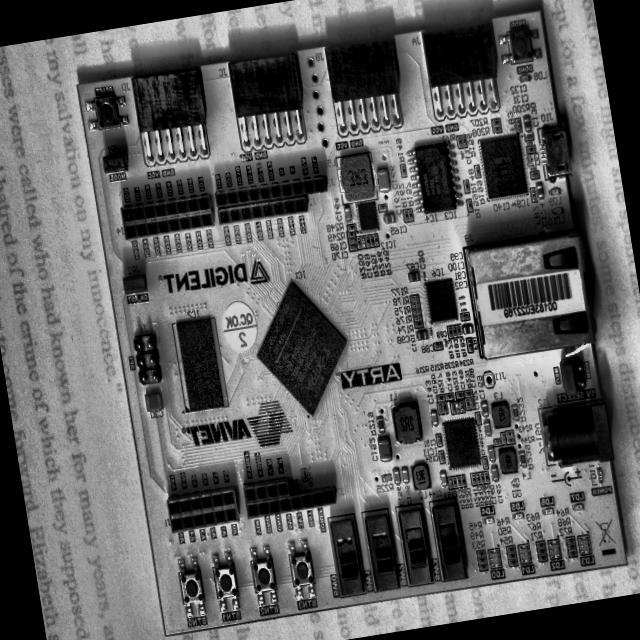PCB: (72, 0, 640, 639)
